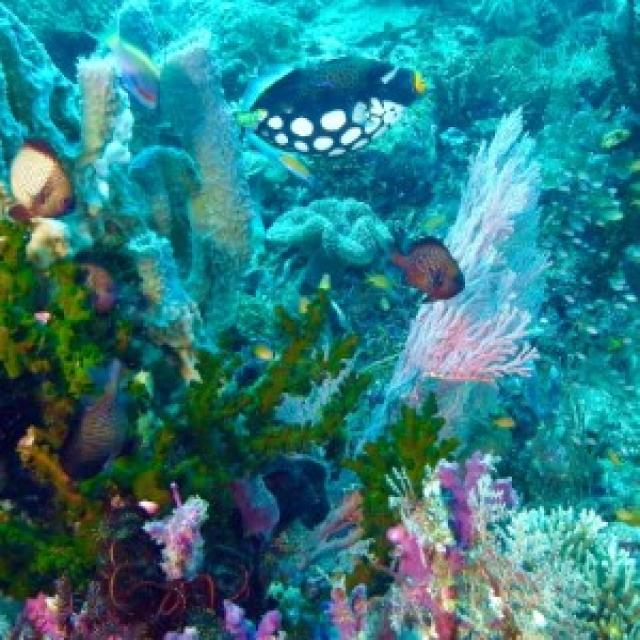Healthy: (123, 289, 370, 487), (391, 110, 547, 396), (159, 46, 263, 330), (389, 457, 519, 639), (347, 394, 458, 591), (1, 219, 114, 398), (502, 507, 639, 639), (1, 469, 97, 598), (268, 198, 394, 280), (74, 58, 133, 221), (18, 577, 148, 639), (144, 484, 208, 580), (227, 475, 289, 539)
